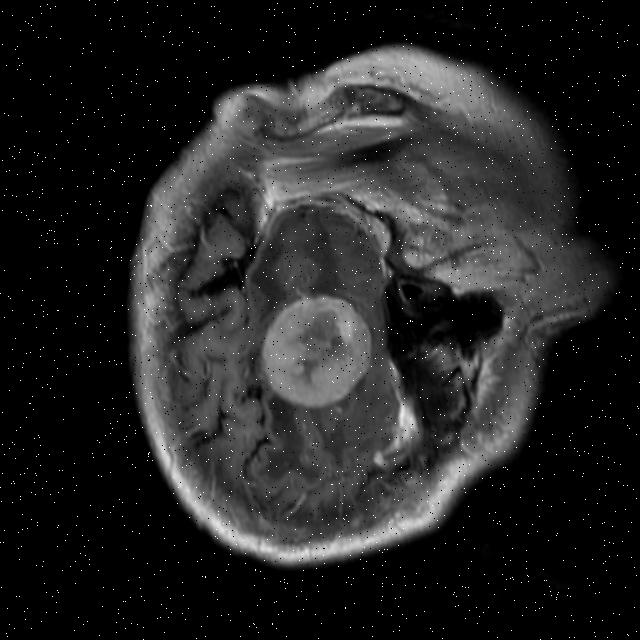Meningioma: (250, 284, 385, 417)
